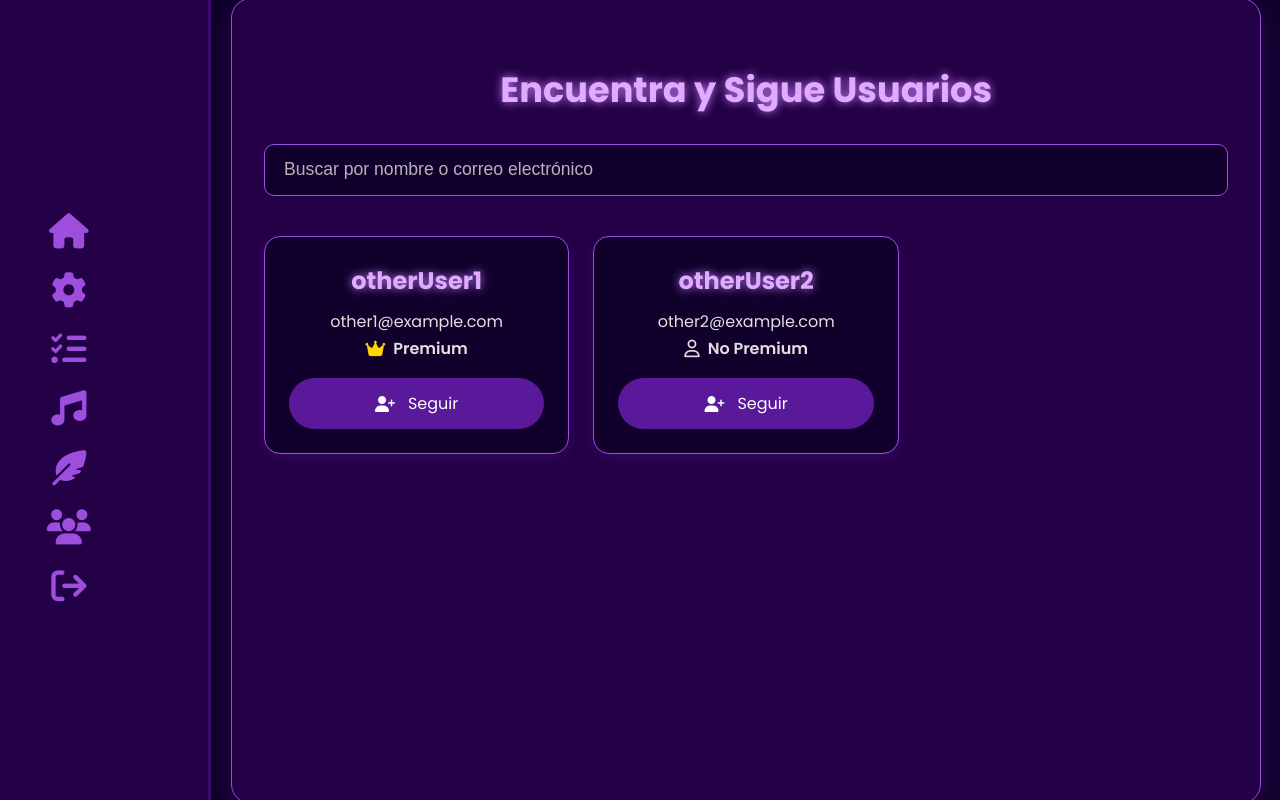
Test: User Follows Tests › debe filtrar a los usuarios según el término de búsqueda
Type "otherUser1" into the field with class "search-input".
click(747, 170); type("otherUser1")  # box [264,144,1229,196]
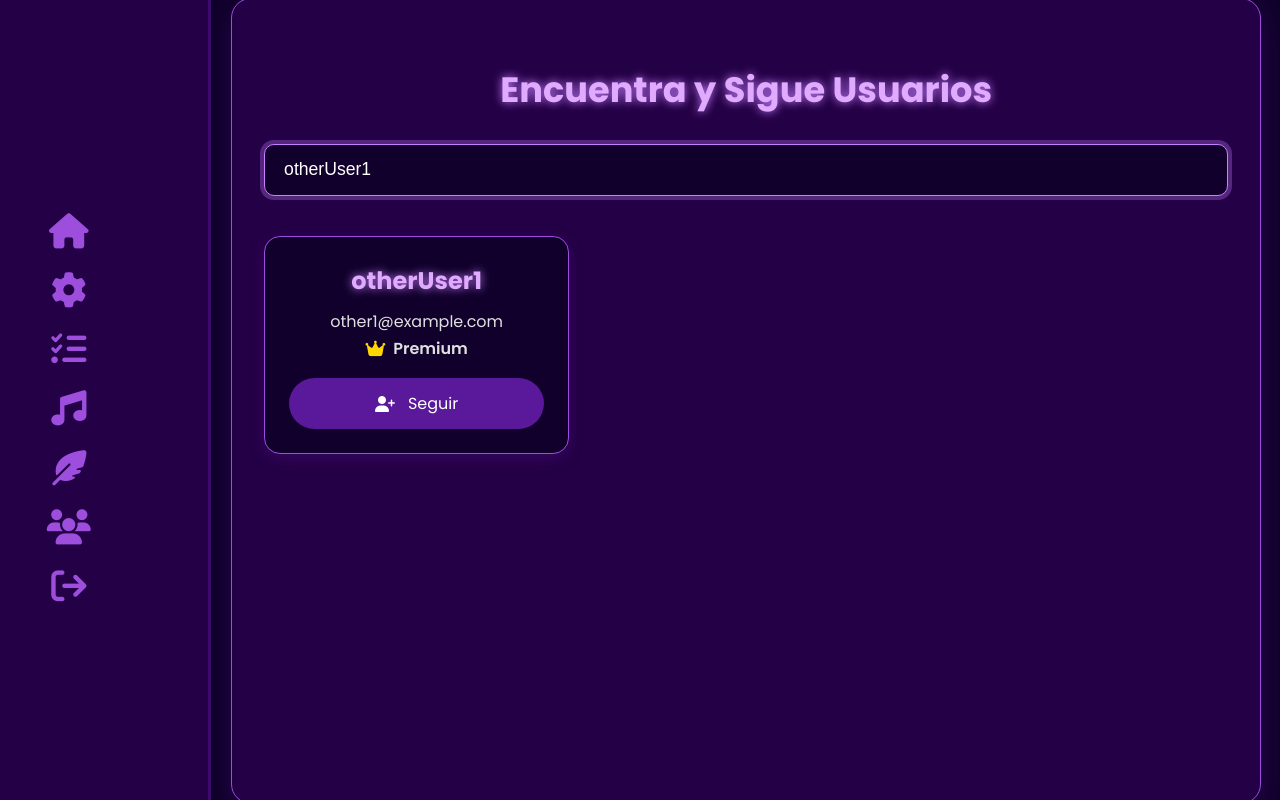
Expected: the number of elements with class "user-card" is 1, [264,236,570,454]
Expected: the heading "otherUser1" is shown, [351,264,482,297]
Replace the text in the field with class "search-input" with "other1@example.com" at (747, 170), box [264,144,1229,196]
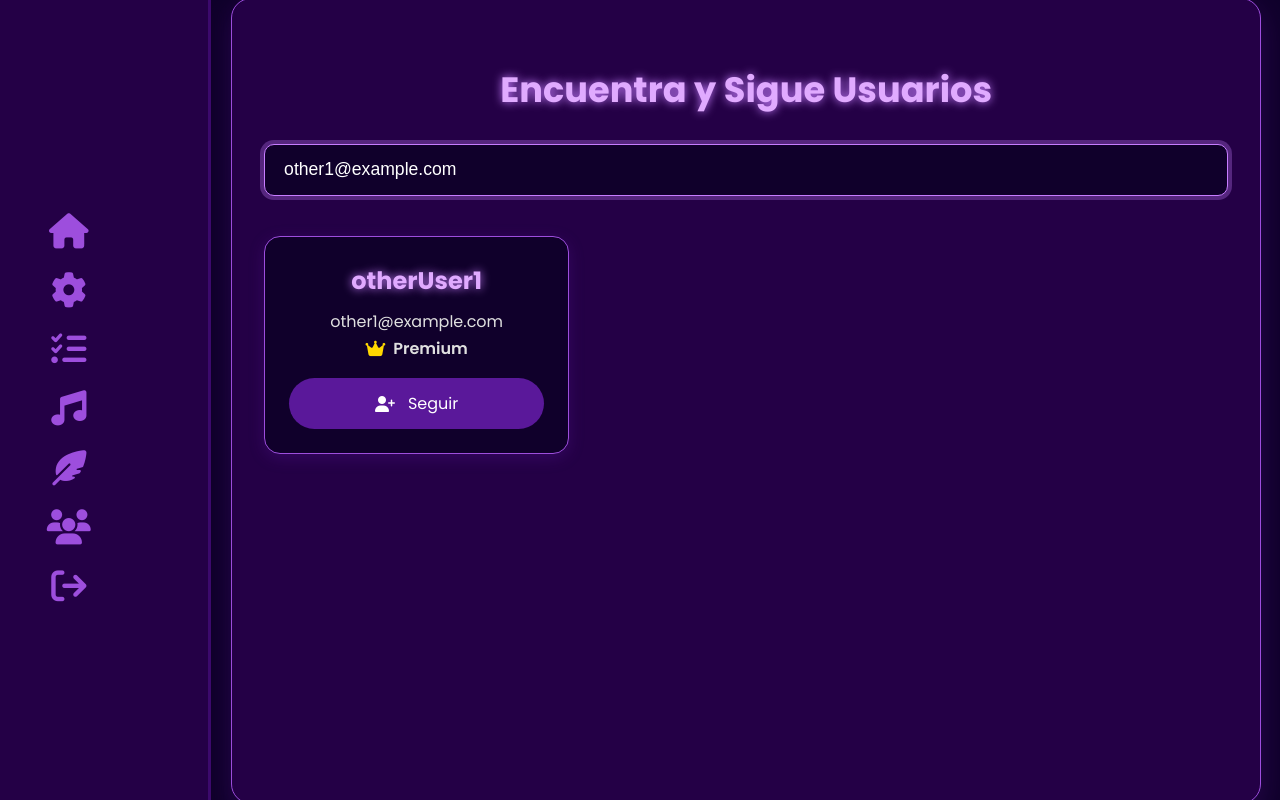
Expected: the number of elements with class "user-card" is 1, [264,236,570,454]
Expected: the text "other1@example.com" is shown, [330,308,503,335]
Replace the text in the field with class "search-input" with "nonexistentuser" at (747, 170), box [264,144,1229,196]
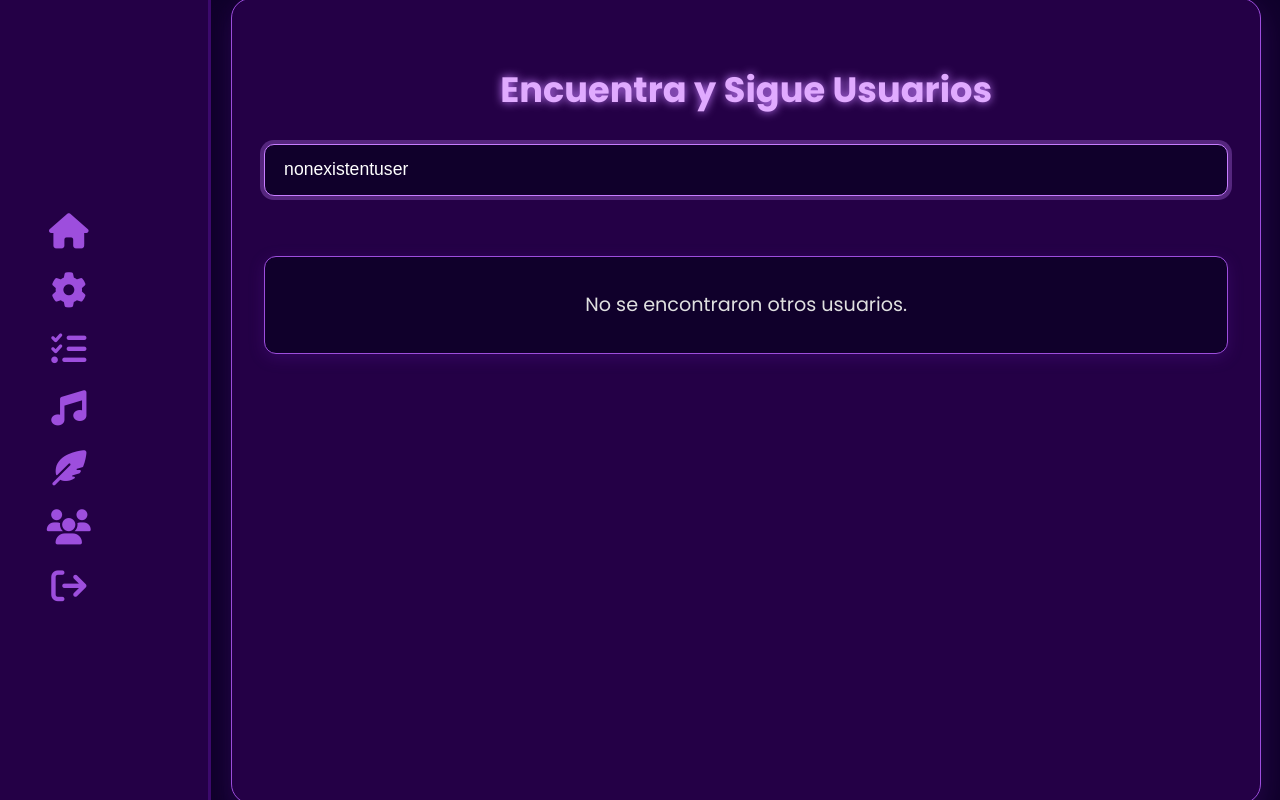
Result: the text "No se encontraron otros usuarios." is shown at [264,256,1228,354]
Result: the element with class "user-card" is gone
Clear the field with class "search-input" at (747, 170), box [264,144,1229,196]
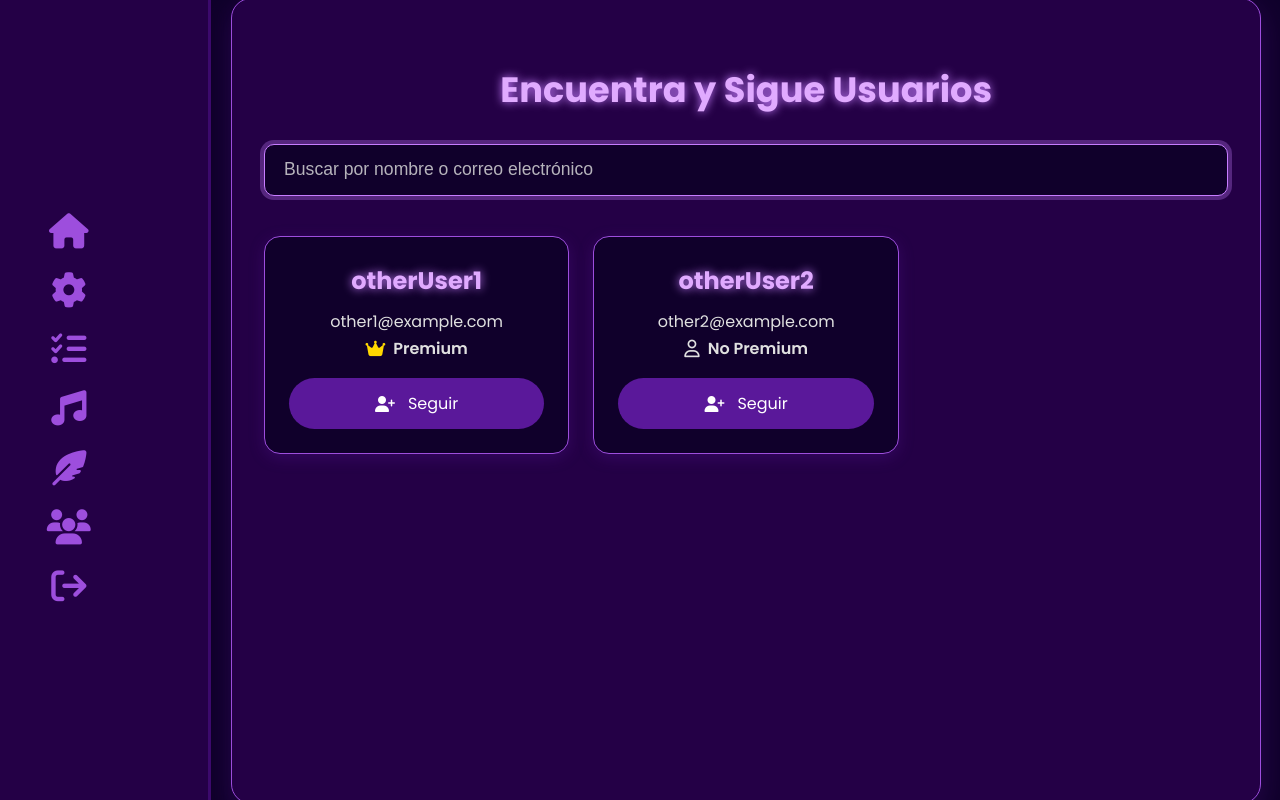
Result: the number of elements with class "user-card" is 2 at [264,236,569,454]; [593,236,899,454]
